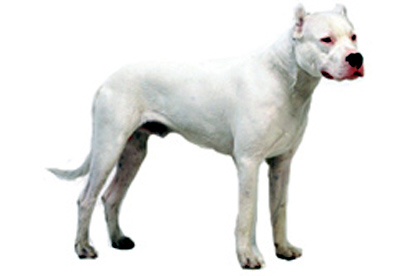dogo_argentino: (46, 0, 364, 269)
